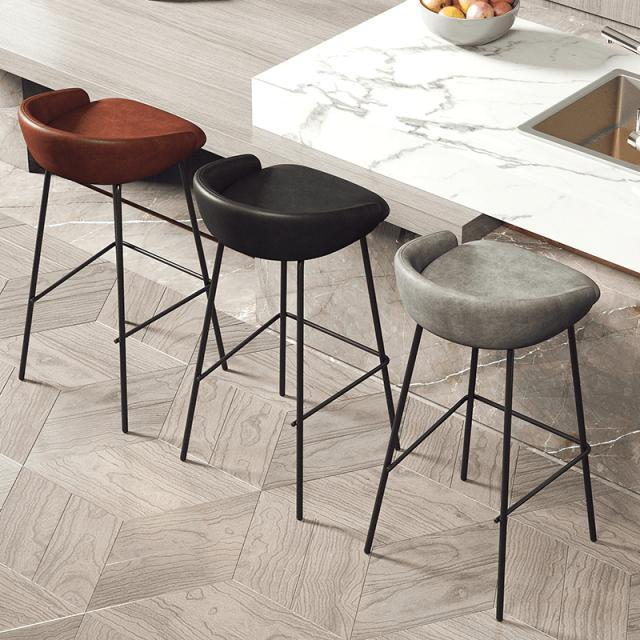chair: (364, 226, 606, 624), (179, 150, 403, 520), (18, 86, 232, 437), (392, 225, 591, 348), (192, 146, 397, 262), (17, 76, 205, 176)
